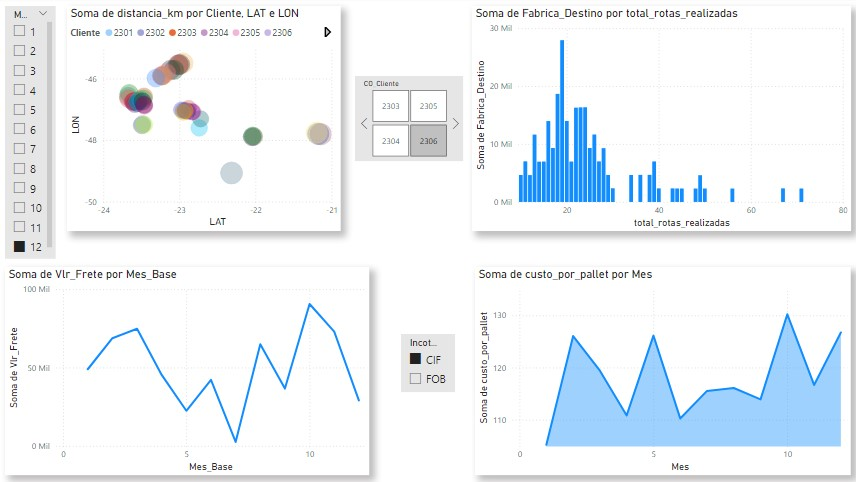

The dashboard page shown, as its layout file describes it:
{"tool":"powerbi","page":{"name":"Página 1","canvas":[1280,720],"ordinal":0},"visuals":[{"type":"lineChart","fields":{"Y":["Sum(api view_rota.Vlr_Frete)"],"Category":["api custototalcif.Mes_Base"]},"box":[57.4,123.5,546.6,373.5],"z":0},{"type":"slicer","fields":{"Values":["api custototalcif.Mes_Base"]},"box":[0,0,253.9,70],"z":1},{"type":"slicer","fields":{"Values":["api view_rota.CO_Cliente"]},"box":[253.9,0,253.9,72],"z":2},{"type":"slicer","fields":{"Values":["api view_fabrica.Fabrica"]},"box":[507.7,0,277.2,65.2],"z":3},{"type":"slicer","fields":{"Values":["api view_rota.Incoterm"]},"box":[784.9,0,258.7,61.3],"z":4},{"type":"slicer","fields":{"Values":["api ocupacaomensalveiculos.Veiculo"]},"box":[1043.6,1.9,236.4,63.2],"z":5},{"type":"card","fields":{"Values":["Sum(api view_rota.Vlr_Frete)"]},"box":[158.5,526.2,258.7,137.1],"z":6},{"type":"scatterChart","fields":{"X":["api view_cliente.LAT"],"Y":["api view_cliente.LON"],"Size":["Sum(api distancia_cliente_fabrica.distancia_km)"]},"box":[619.6,123.5,613.7,392.9],"z":7},{"type":"card","fields":{"Values":["Sum(api distancia_cliente_fabrica.distancia_km)"]},"box":[855.9,539.8,198.4,149.8],"z":8}]}

Visuals, with their boxes in screenshot pixels (x1, y1, x2, y2), scaled from the page's 1280x720 canvas onto the 856x482 screenshot:
lineChart - Sum(api view_rota.Vlr_Frete) x api custototalcif.Mes_Base: l=38, t=83, r=404, b=333
slicer - api custototalcif.Mes_Base: l=0, t=0, r=170, b=47
slicer - api view_rota.CO_Cliente: l=170, t=0, r=340, b=48
slicer - api view_fabrica.Fabrica: l=340, t=0, r=525, b=44
slicer - api view_rota.Incoterm: l=525, t=0, r=698, b=41
slicer - api ocupacaomensalveiculos.Veiculo: l=698, t=1, r=855, b=44
card - Sum(api view_rota.Vlr_Frete): l=106, t=352, r=279, b=444
scatterChart - api view_cliente.LAT x api view_cliente.LON: l=414, t=83, r=825, b=346
card - Sum(api distancia_cliente_fabrica.distancia_km): l=572, t=361, r=705, b=462
